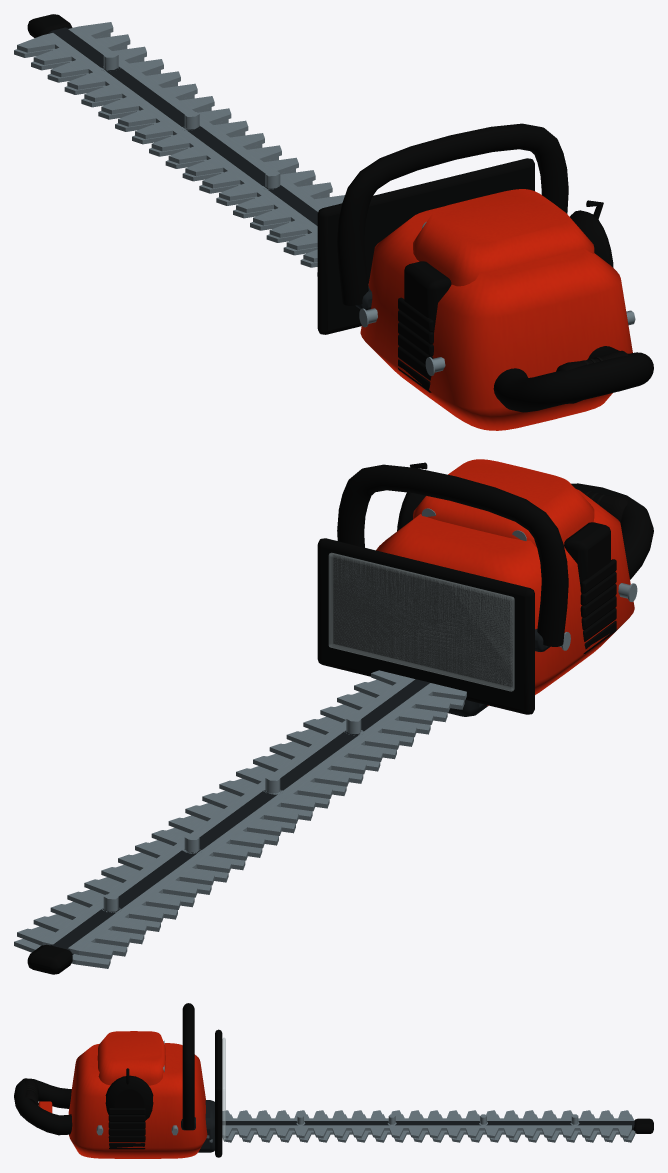
The model's file is GasHedgeTrimmer.gltf.
The picture shows the model from 3 angles, top to bottom: view 1: azimuth 30°, elevation 25°; view 2: azimuth 150°, elevation 25°; view 3: azimuth 270°, elevation 25°; orthographic projection. The views are drawn at different scales.
Parts seen in each view (by area): view 1: GasHedgeTrimmer__Body; view 2: GasHedgeTrimmer__Body, GasHedgeTrimmer__Glass_HandGuard; view 3: GasHedgeTrimmer__Body, GasHedgeTrimmer__Glass_HandGuard.
Part boxes in pixels (box(x1,y1,x2,y2)): GasHedgeTrimmer__Body: box(14, 14, 653, 430); GasHedgeTrimmer__Body: box(14, 459, 653, 974); GasHedgeTrimmer__Glass_HandGuard: box(328, 553, 514, 691); GasHedgeTrimmer__Body: box(14, 1003, 653, 1158); GasHedgeTrimmer__Glass_HandGuard: box(222, 1037, 225, 1140).
Size of the model in its own units: 0.308 by 0.28 by 1.32.
2 materials, 1 textured.
